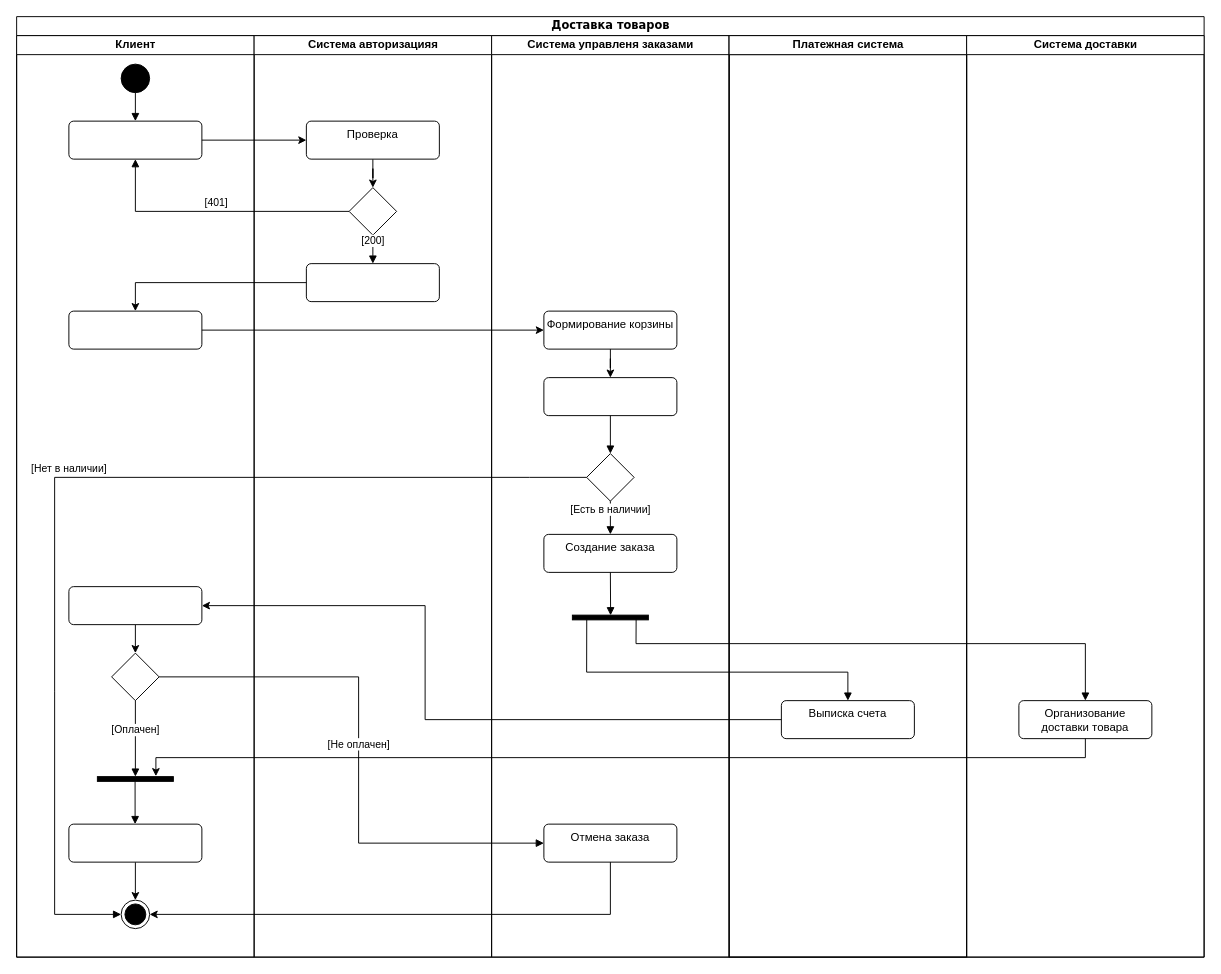
Image size: 1221x974. Some labels were removed from this diagram. Each missing label, with the centre of its shape:
Авторизация: (372,282)
Ввод данных (аутенификация): (135,139)
Выбор товара: (135,329)
Оплата счета: (135,605)
Определение наличия товаров: (610,396)
Получиение заказа: (135,842)
